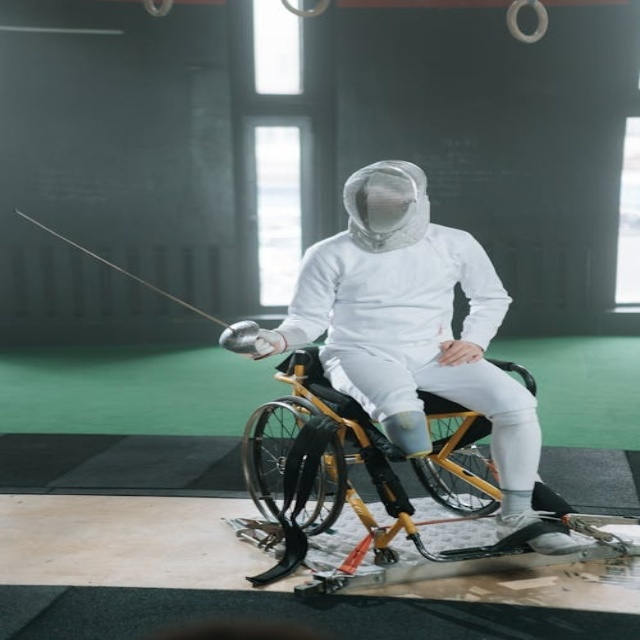Guantes: (222, 327, 286, 360)
Sin_guantes: (437, 336, 489, 367)
